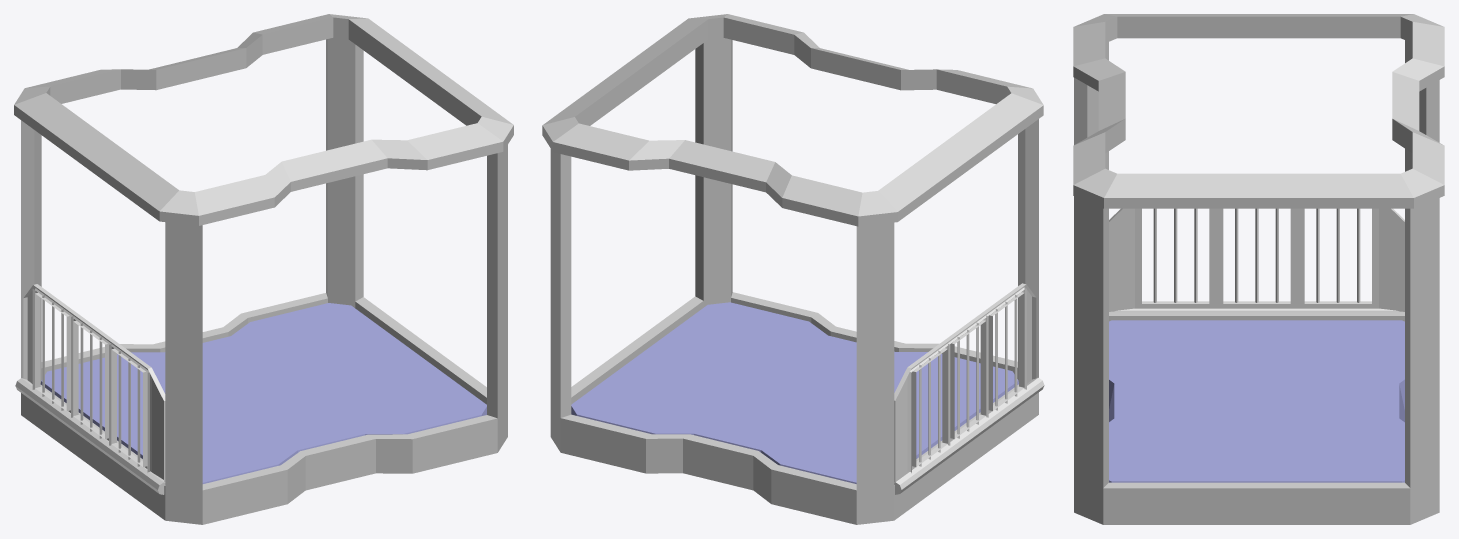
Rendered from Elevator.fbx.
The picture shows the model from 3 angles, left to right: view 1: azimuth 30°, elevation 25°; view 2: azimuth 150°, elevation 25°; view 3: azimuth 270°, elevation 25°; orthographic projection. The views are drawn at different scales.
Parts seen in each view (by area): view 1: Elevator, Cube.002; view 2: Elevator, Cube.002; view 3: Elevator, Cube.002.
Boxes of the visible parts, x1=… form: Elevator: x1=14, y1=14, x2=513, y2=524; Cube.002: x1=15, y1=284, x2=165, y2=494; Elevator: x1=542, y1=14, x2=1043, y2=524; Cube.002: x1=894, y1=283, x2=1044, y2=494; Elevator: x1=1073, y1=14, x2=1444, y2=524; Cube.002: x1=1109, y1=208, x2=1404, y2=312.
Bounding box in the file's own units: 1076 × 927 × 914.
